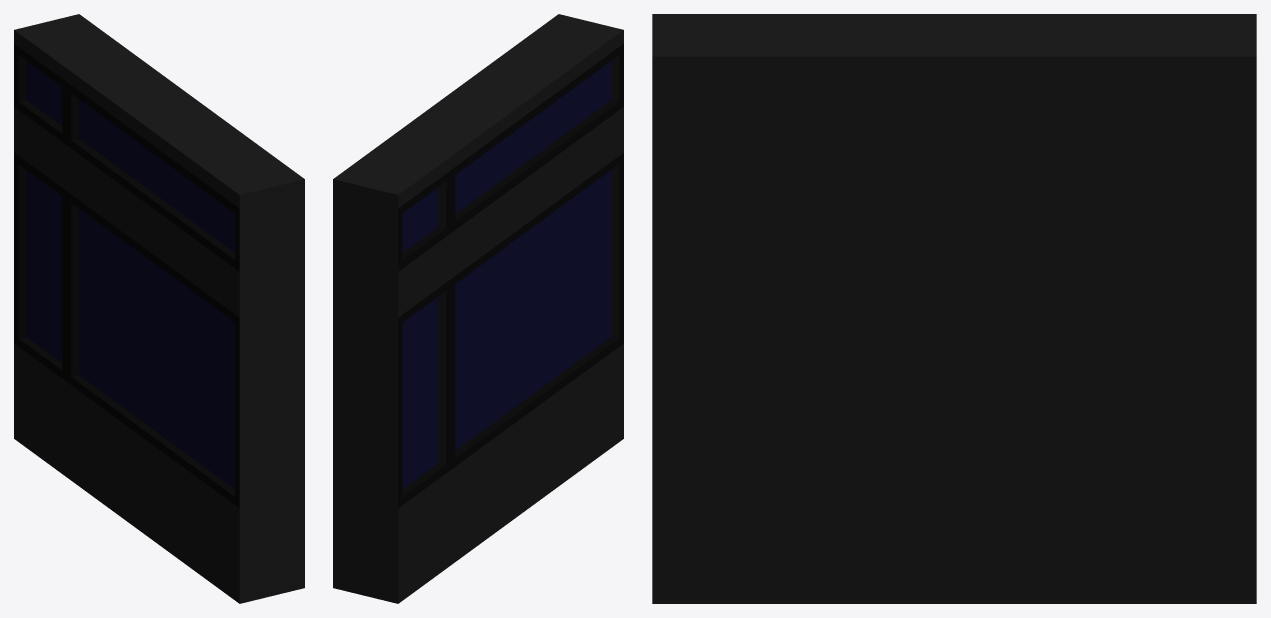
File: medical_center21.FBX
3 views of the same model, side by side, from view 1: azimuth 30°, elevation 25°; view 2: azimuth 150°, elevation 25°; view 3: azimuth 270°, elevation 25° (orthographic). The views are drawn at different scales.
Visible parts, largest first — view 1: medical_center21; view 2: medical_center21; view 3: medical_center21.
Boxes of the visible parts, box(x1,y1,x2,y2) form: medical_center21: box(14, 14, 304, 603); medical_center21: box(333, 14, 623, 603); medical_center21: box(652, 14, 1256, 603).
Bounding box in the file's own units: 500 × 3000 × 3000.
